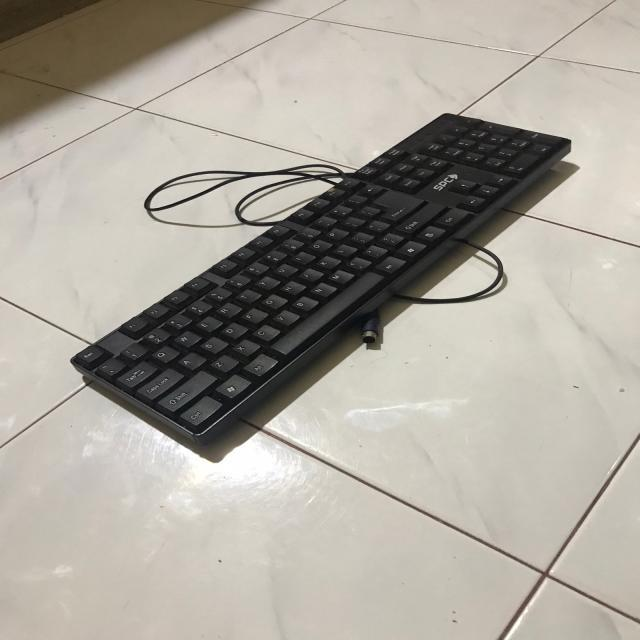-mouse-: (71, 113, 573, 434)
